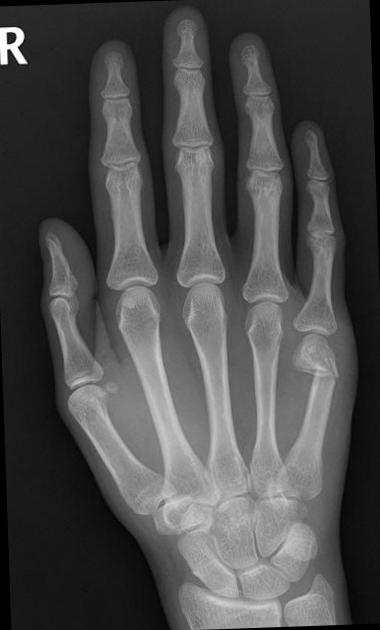fracture: (300, 366, 340, 387)
